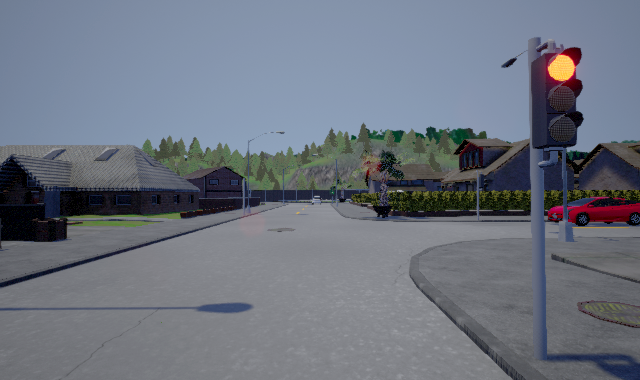traffic_light: (531, 39, 584, 168)
vehicle: (548, 196, 640, 226)
